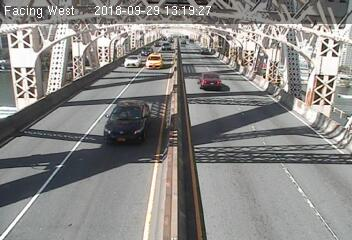car: (105, 100, 152, 146), (197, 70, 225, 92), (145, 54, 168, 69), (120, 56, 142, 69)
